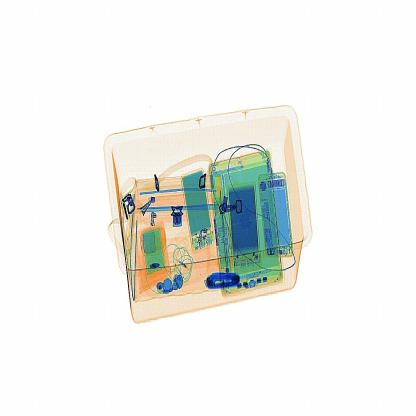scissors: (200, 269, 244, 294)
